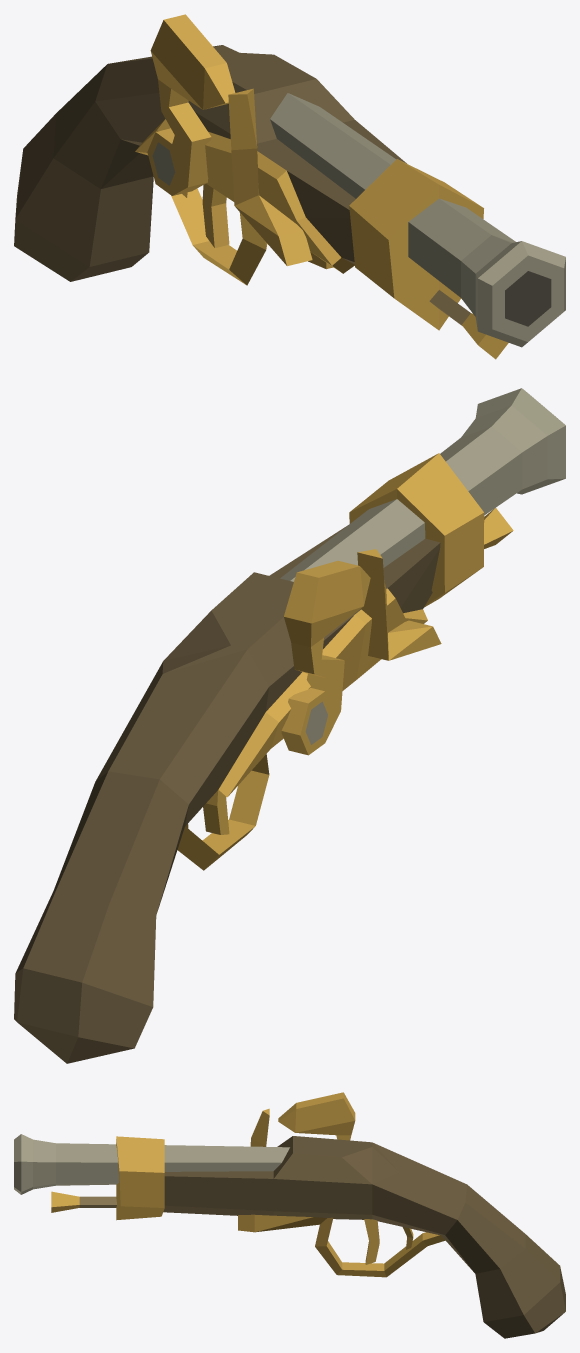
Rendered from Pistol_4.fbx.
3 renders of one model, top to bottom at view 1: azimuth 30°, elevation 25°; view 2: azimuth 150°, elevation 25°; view 3: azimuth 270°, elevation 25°, orthographic. The views are drawn at different scales.
Parts seen in each view (by area): view 1: Pistol_4; view 2: Pistol_4; view 3: Pistol_4.
Boxes of the visible parts, x1,y1,x2,y2 form: Pistol_4: (14, 14, 565, 359); Pistol_4: (14, 388, 565, 1063); Pistol_4: (14, 1092, 565, 1338).
Size of the model in its own units: 8.37 by 20.21 by 46.65.
